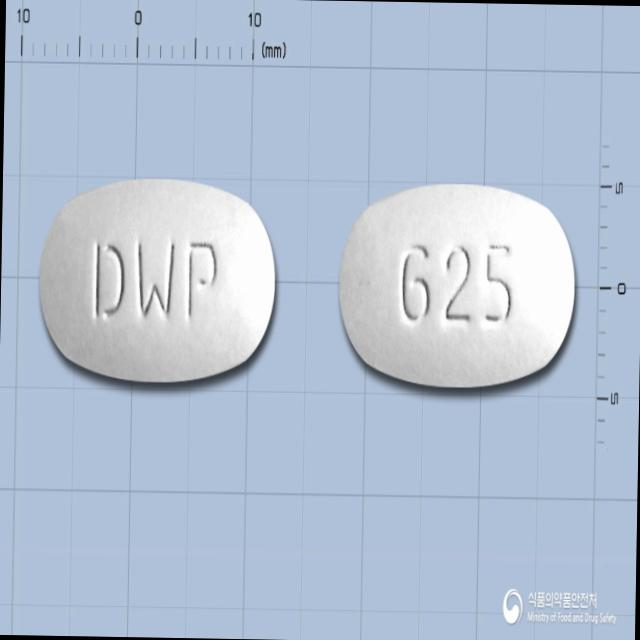Amoxicle: (34, 172, 282, 392), (337, 178, 578, 389)
